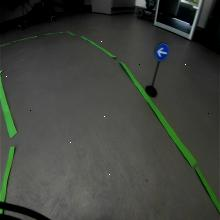left: (154, 42, 170, 62)
